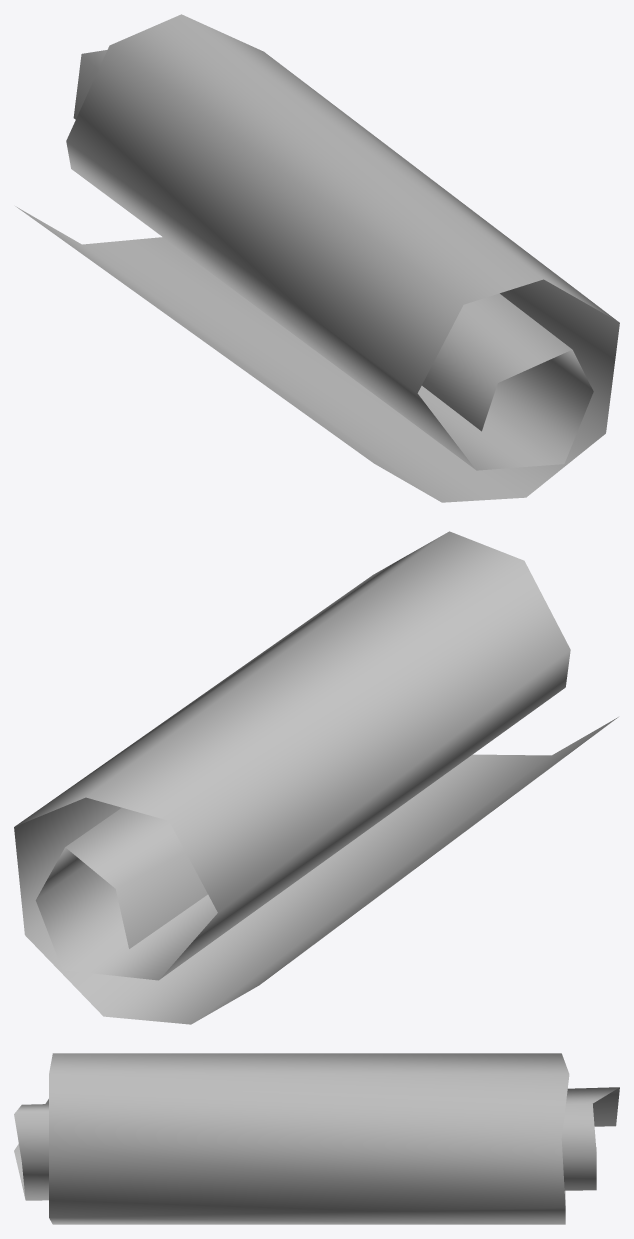
The model's file is paper.obj.
3 renders of one model, top to bottom at view 1: azimuth 30°, elevation 25°; view 2: azimuth 150°, elevation 25°; view 3: azimuth 270°, elevation 25°, orthographic. The views are drawn at different scales.
Parts seen in each view (by area): view 1: Triangles; view 2: Triangles; view 3: Triangles.
Part boxes in pixels (box(x1,y1,x2,y2)): Triangles: box(15, 14, 619, 502); Triangles: box(14, 531, 618, 1024); Triangles: box(14, 1053, 619, 1224).
Bounding box in the file's own units: 1.6 × 1.34 × 4.73.
